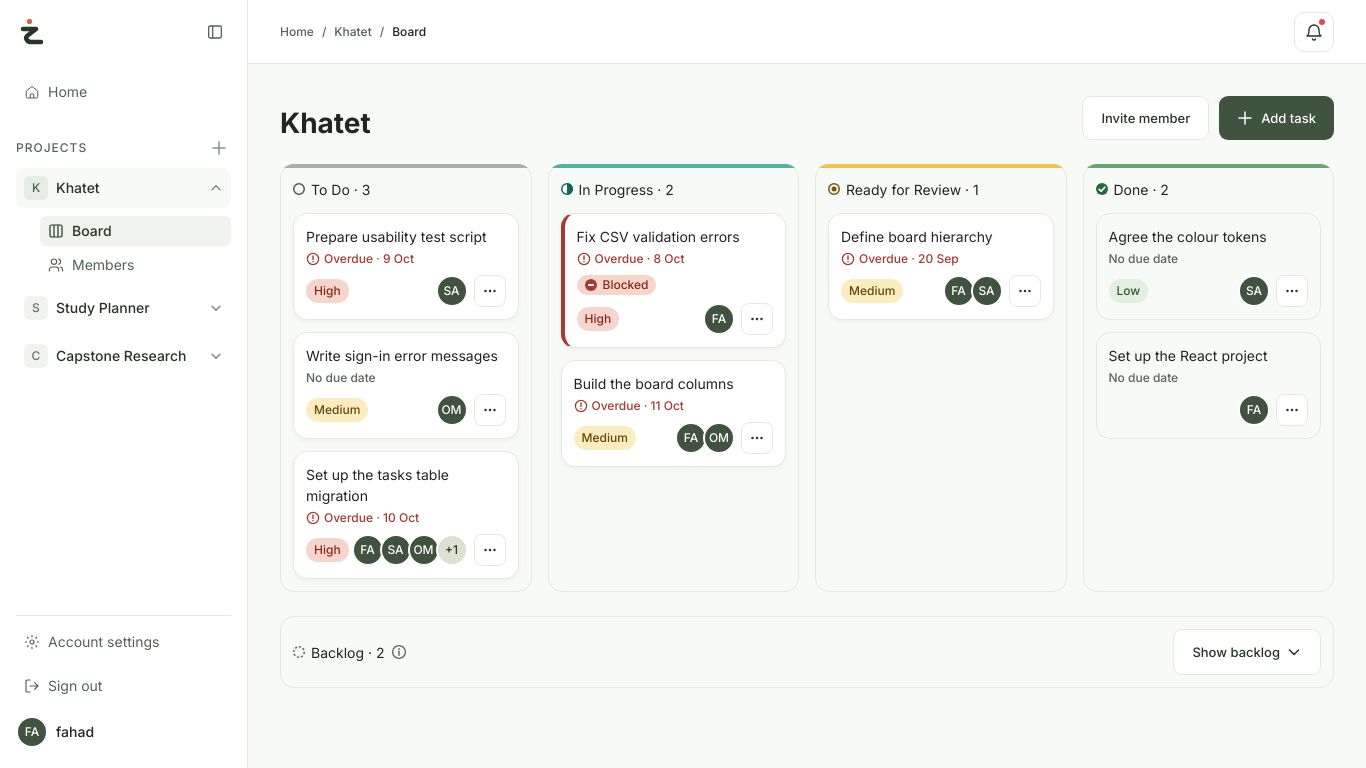
it: board (US-16, US-21) › keeps the Blocked flag and reason when a move out of In Progress is undone
Click the button named "More actions for Fix CSV validation errors" at (757, 319), box [741,303,773,335]
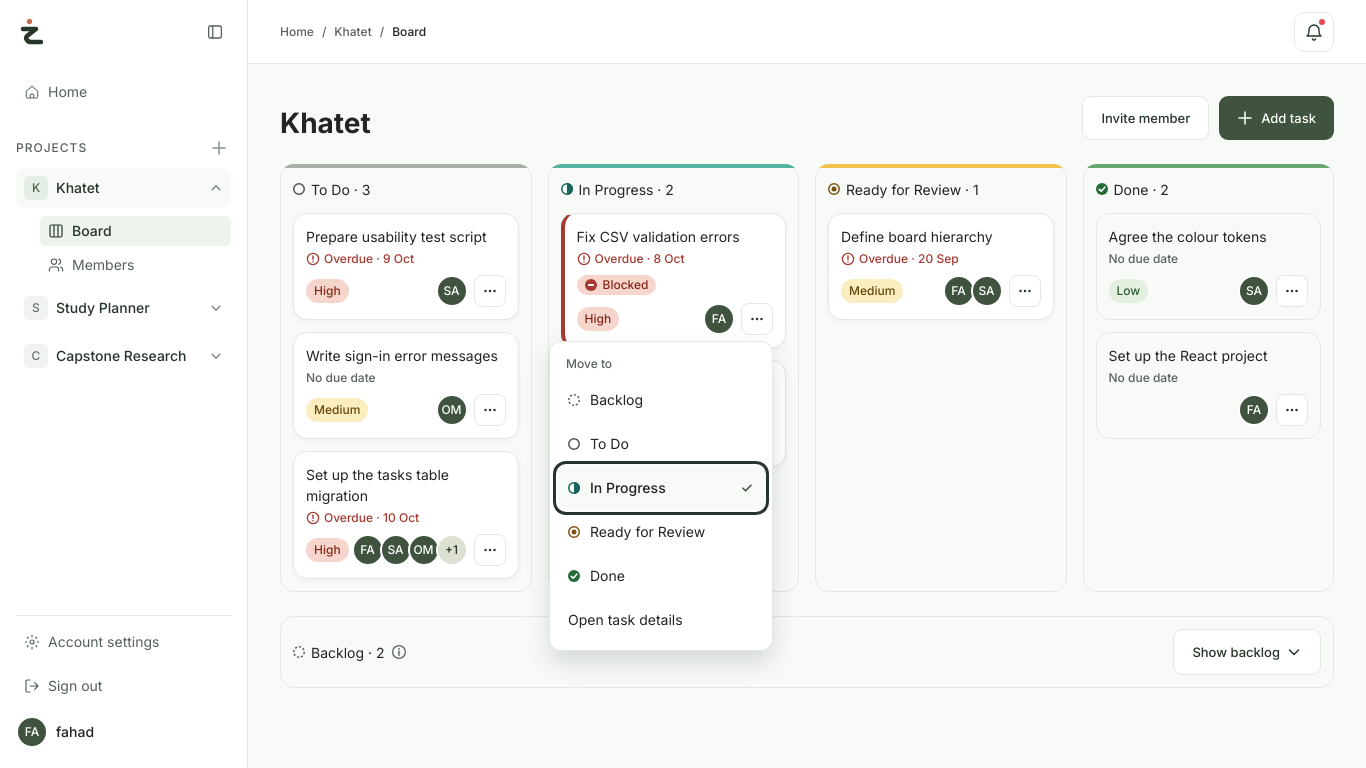
Click the menu item "Done" at (661, 576), box [558,554,764,598]
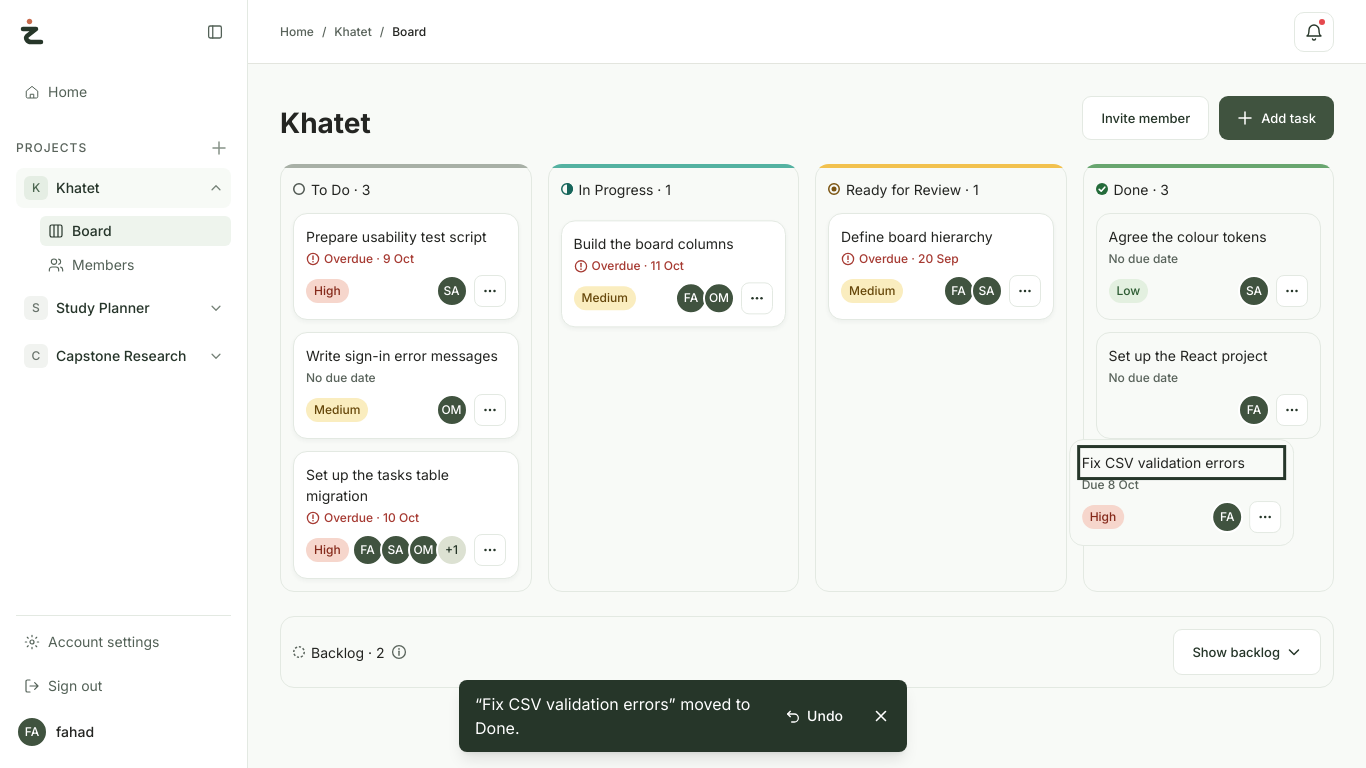
Click the button "Undo" at (814, 716), box [773,694,855,738]
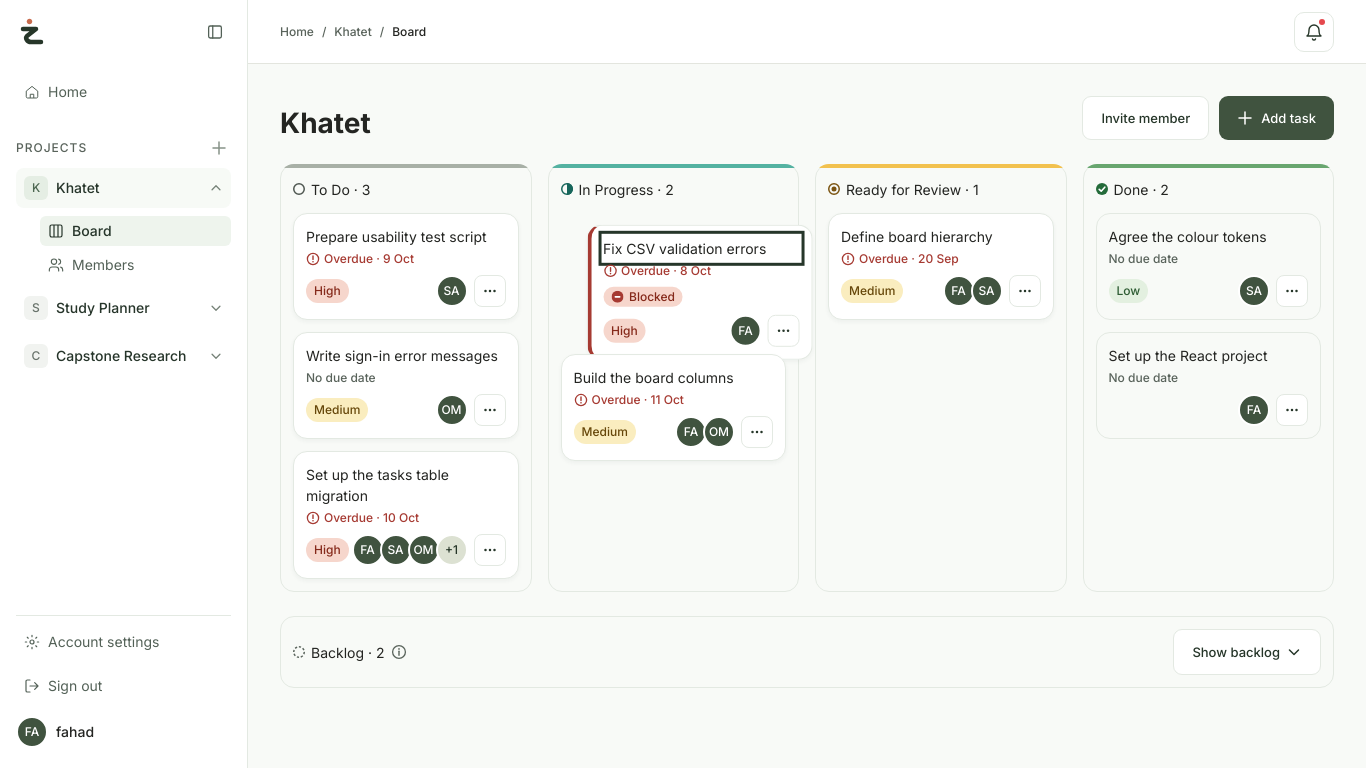
Expected: the text "Blocked" is shown, [585,279,665,299]
